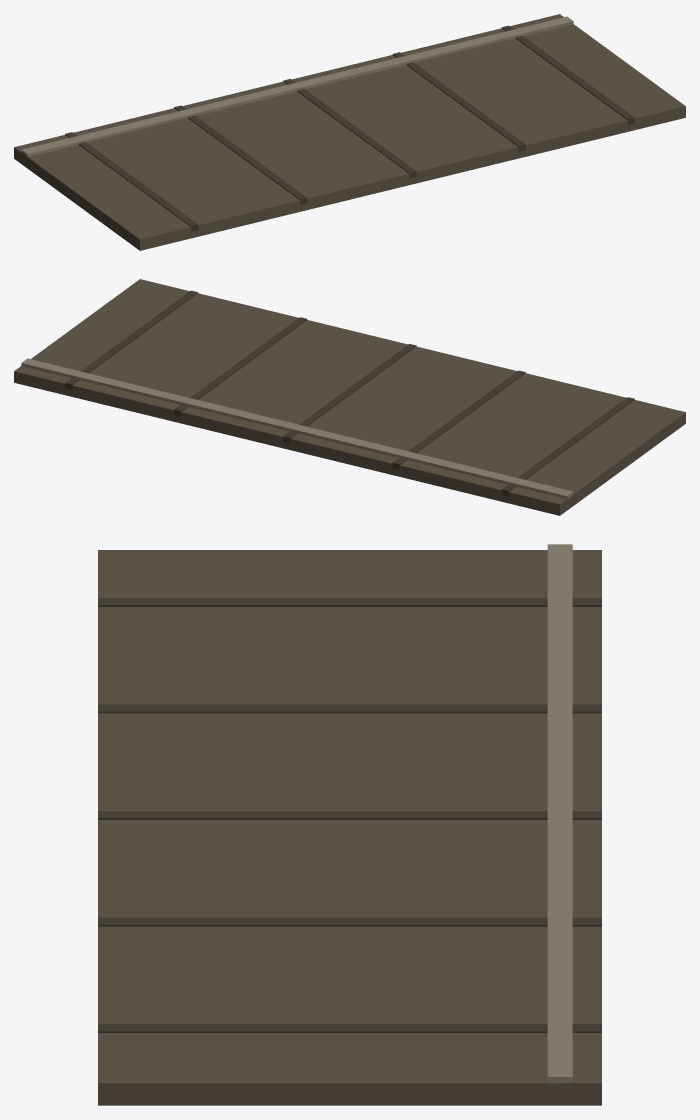
The model's file is f17-mudflat-tidal.glb.
3 views of the same model, one above another, from view 1: azimuth 30°, elevation 25°; view 2: azimuth 150°, elevation 25°; view 3: azimuth 270°, elevation 25° (orthographic). The views are drawn at different scales.
Parts seen in each view (by area): view 1: part0, part6, part2, part1, part4, part3, part5; view 2: part0, part6, part4, part1, part2, part3, part5; view 3: part0, part6, part2, part4, part1, part3, part5.
Part boxes in pixels (<box>): part0: <box>14,14,685,250</box>; part6: <box>21,16,573,156</box>; part2: <box>174,105,307,204</box>; part1: <box>65,132,198,231</box>; part4: <box>392,52,525,151</box>; part3: <box>283,79,416,178</box>; part5: <box>501,25,634,124</box>; part0: <box>14,279,685,515</box>; part6: <box>21,358,573,498</box>; part4: <box>174,317,307,416</box>; part1: <box>501,397,634,496</box>; part2: <box>392,370,525,469</box>; part3: <box>283,344,416,443</box>; part5: <box>65,290,198,389</box>; part0: <box>98,550,601,1105</box>; part6: <box>547,544,572,1084</box>; part2: <box>98,704,601,713</box>; part4: <box>98,917,601,926</box>; part1: <box>98,598,601,606</box>; part3: <box>98,811,601,819</box>; part5: <box>98,1024,601,1032</box>.
Bounding box in the file's own units: 30000 × 751 × 12000.
